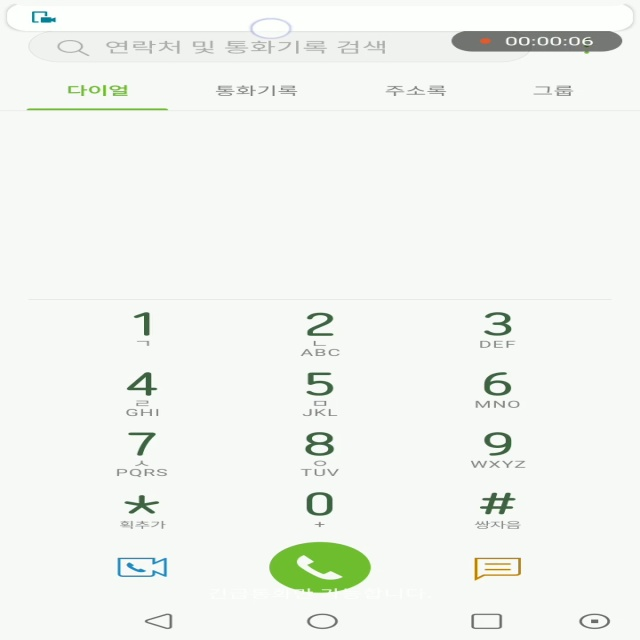Cursor: (249, 17, 294, 40)
